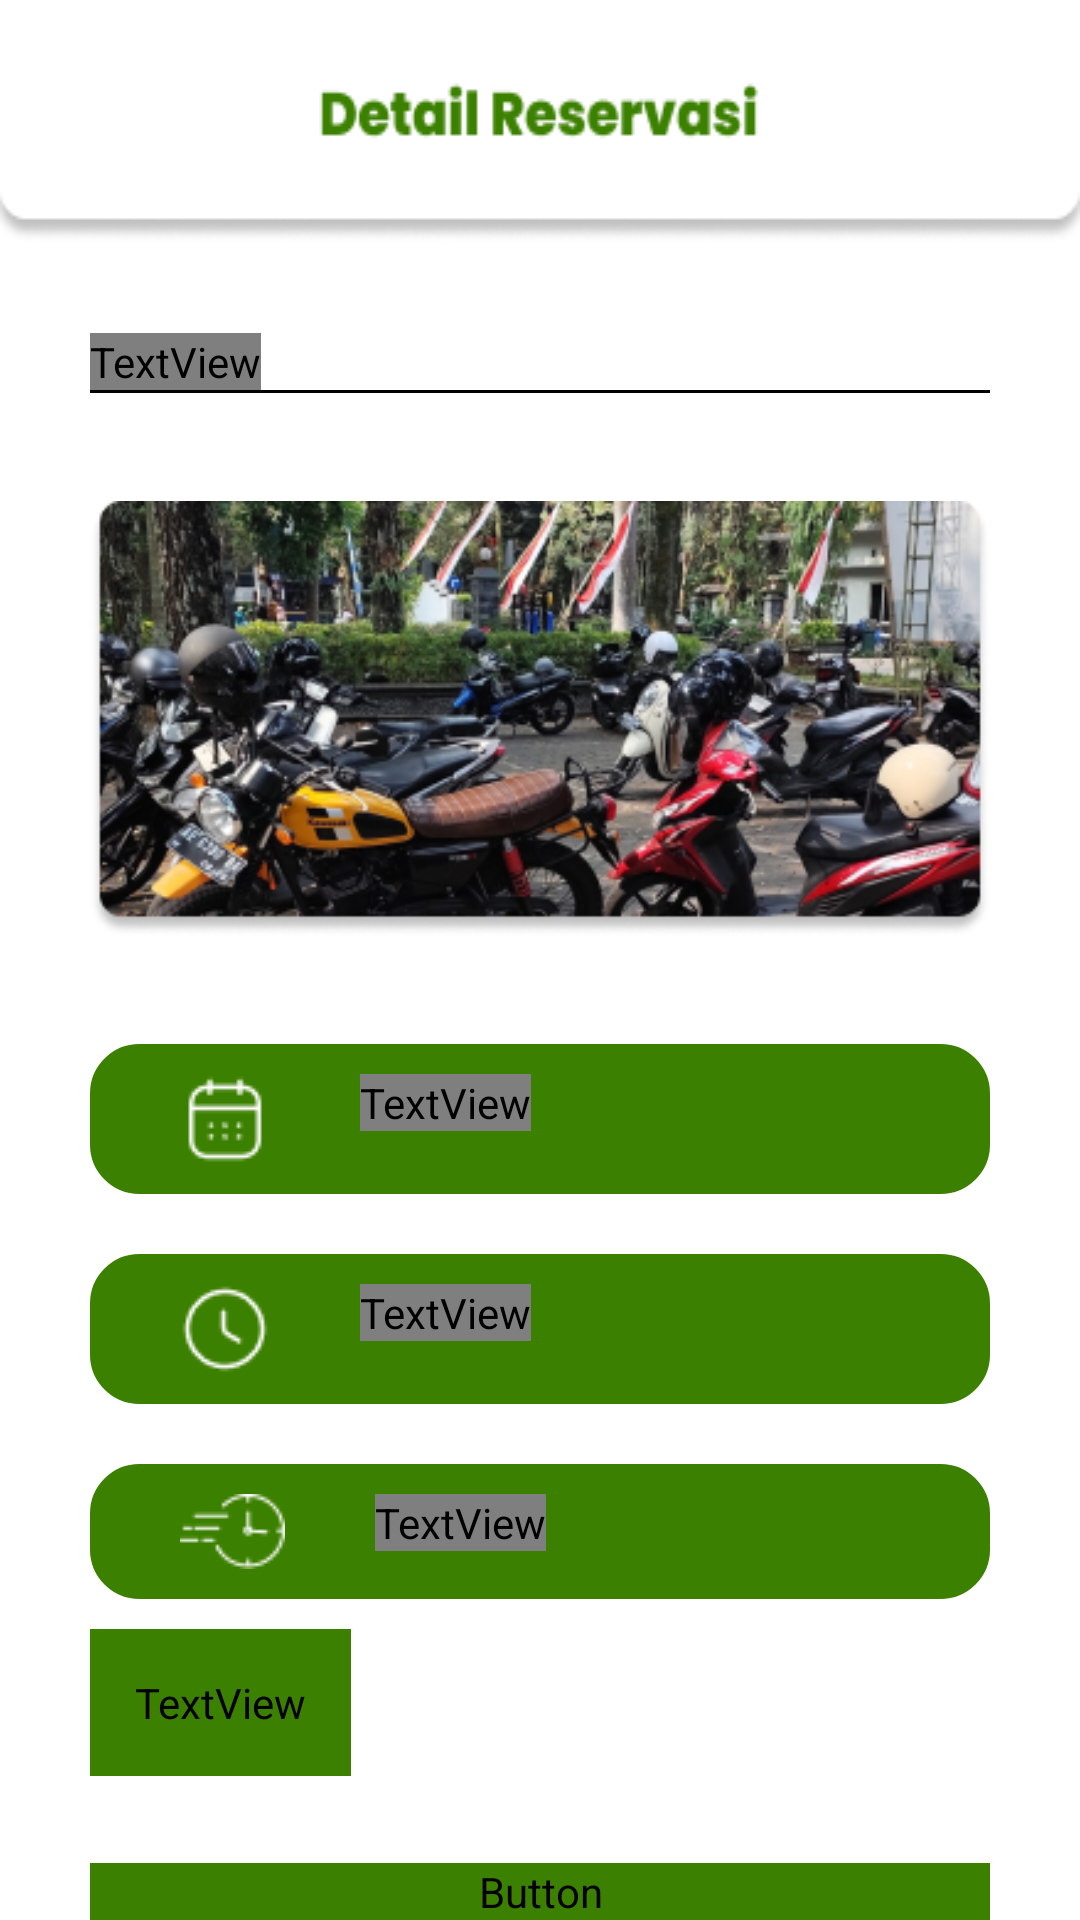

Named icons in this screenshot (1080x1920) and their centers, (x,y):
detailreservasi clock: (225,1329)
detailreservasi duration: (232,1531)
